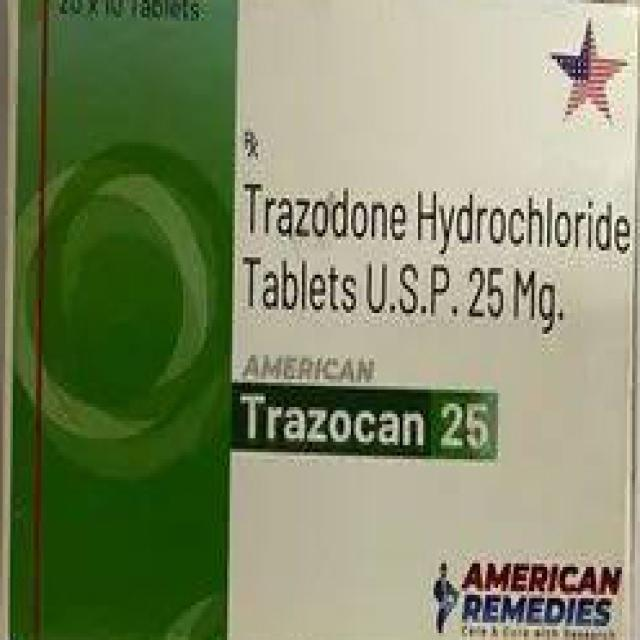drug-name: (237, 389, 496, 451)
